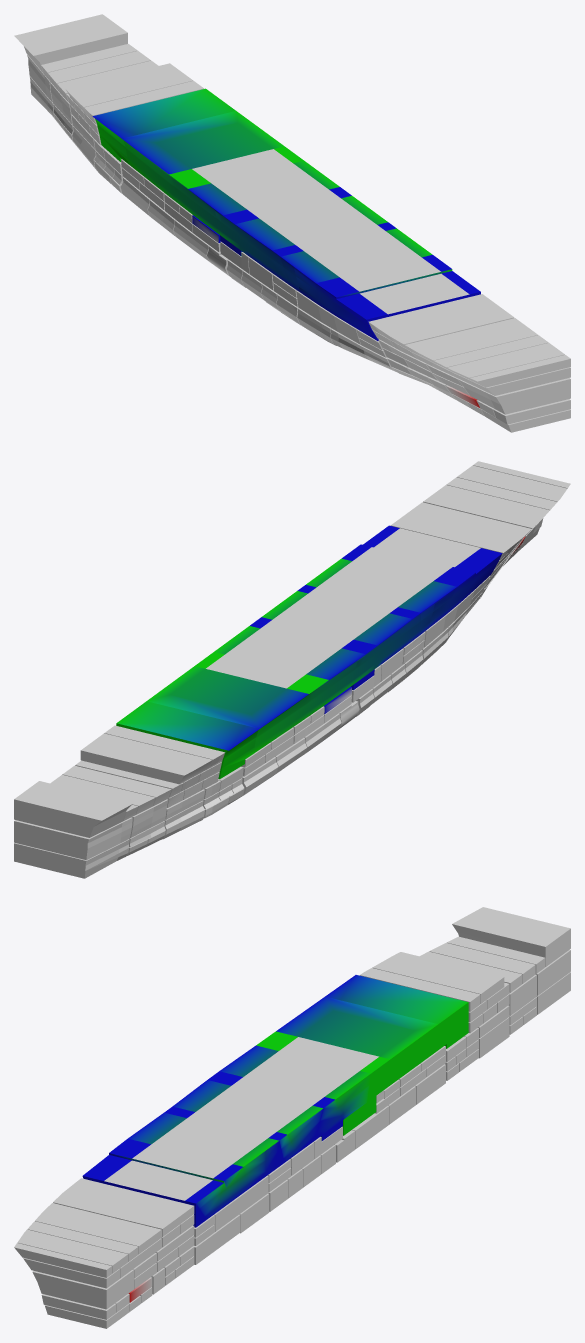
File: sekcje_glebokosc.FBX
3 renders of one model, top to bottom at view 1: azimuth 30°, elevation 25°; view 2: azimuth 150°, elevation 25°; view 3: azimuth 330°, elevation 25°, orthographic.
Parts seen in each view (by area): view 1: 94, 95, 92, 93, 91, 57, 1, 6, 61, 76, 64, 7 (+12 smaller); view 2: 94, 95, 92, 93, 91, 1, 6, 57, 10, 61, 19, 64 (+12 smaller); view 3: 94, 95, 92, 93, 91, 57, 1, 6, 61, 76, 64, 3 (+18 smaller).
Part boxes in pixels (x1,y1,x2,y2): 94: [215, 181, 410, 291]; 95: [294, 238, 480, 340]; 92: [122, 111, 287, 201]; 93: [172, 149, 331, 233]; 91: [92, 88, 235, 163]; 57: [368, 294, 514, 350]; 1: [14, 14, 127, 73]; 6: [65, 63, 193, 115]; 61: [405, 318, 537, 365]; 76: [458, 378, 570, 414]; 64: [447, 343, 564, 383]; 7: [84, 81, 204, 124]; 94: [241, 574, 434, 690]; 95: [320, 525, 502, 627]; 92: [147, 663, 312, 753]; 93: [198, 632, 357, 715]; 91: [116, 701, 259, 779]; 1: [14, 781, 132, 837]; 6: [80, 733, 212, 784]; 57: [390, 502, 531, 560]; 10: [14, 817, 132, 860]; 61: [423, 485, 549, 534]; 19: [14, 839, 129, 878]; 64: [457, 465, 566, 501]; 94: [150, 1065, 343, 1176]; 95: [82, 1122, 265, 1227]; 92: [272, 996, 438, 1087]; 93: [228, 1034, 386, 1135]; 91: [325, 975, 468, 1049]; 57: [53, 1178, 194, 1236]; 1: [452, 907, 570, 966]; 6: [372, 952, 504, 1003]; 61: [35, 1203, 161, 1253]; 76: [32, 1269, 133, 1309]; 64: [17, 1229, 128, 1273]; 3: [429, 943, 535, 983].
Size of the model in its own units: 30.38 by 16.11 by 210.
